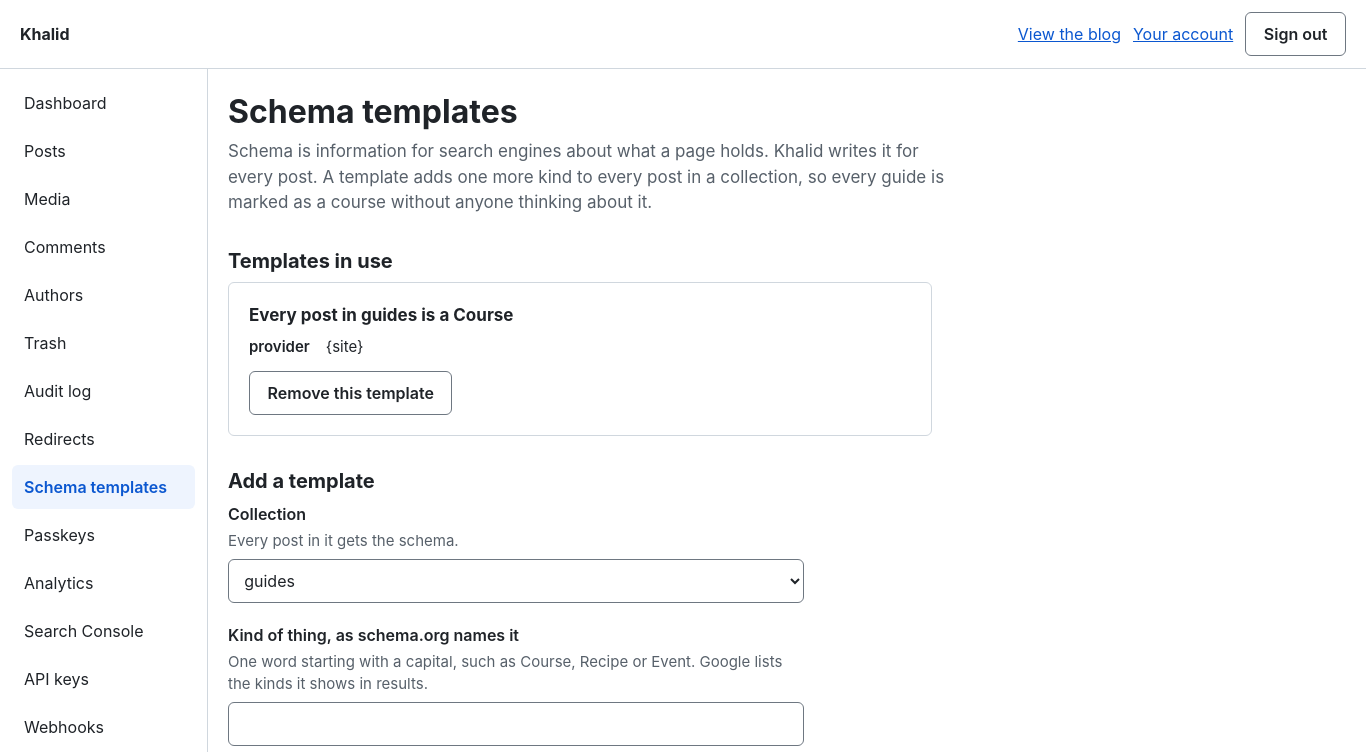
the schema templates screen › removes a template by saving the list without it
This screenshot has width=1366, height=752.
Click the button "Remove this template". click: [351, 393]
box: x1=249 y1=371 x2=452 y2=415
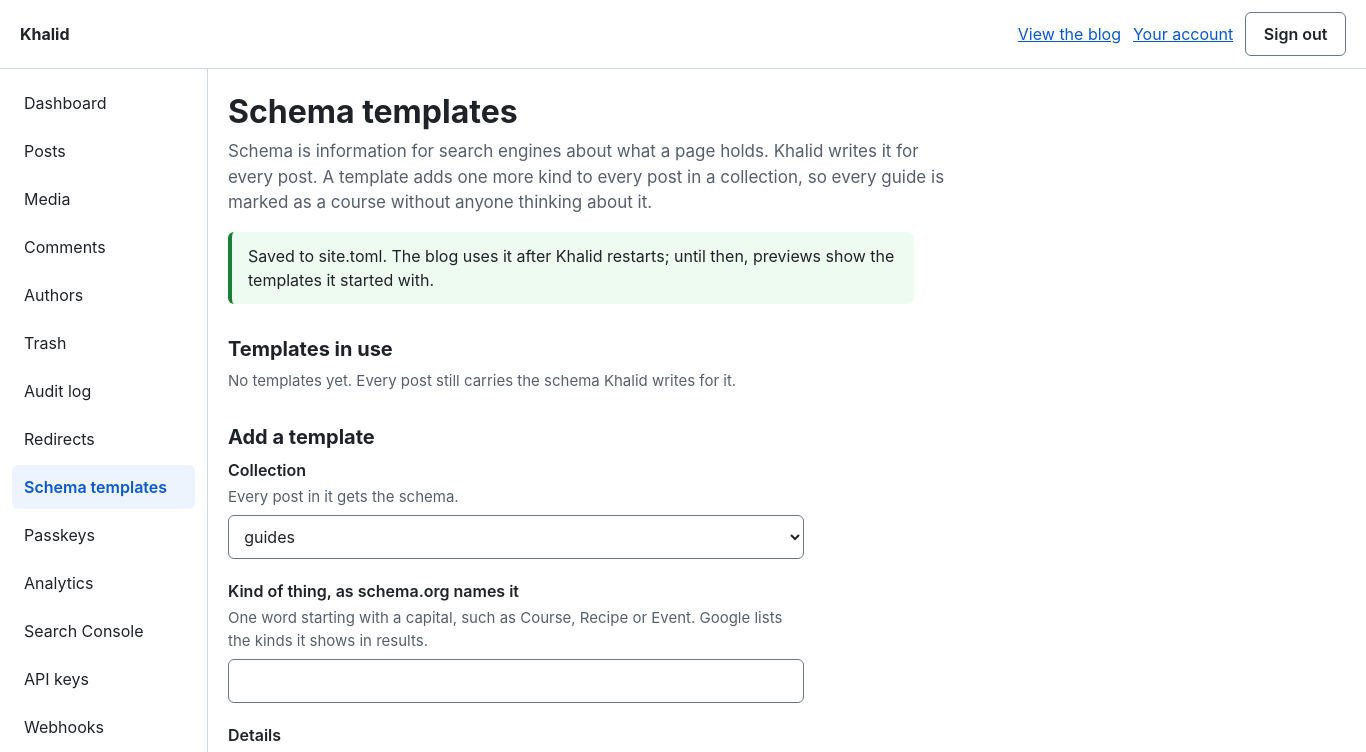
Expected: the text "No templates yet. Every post still carries the schema Khalid writes for it." is shown, x1=228 y1=371 x2=736 y2=390
